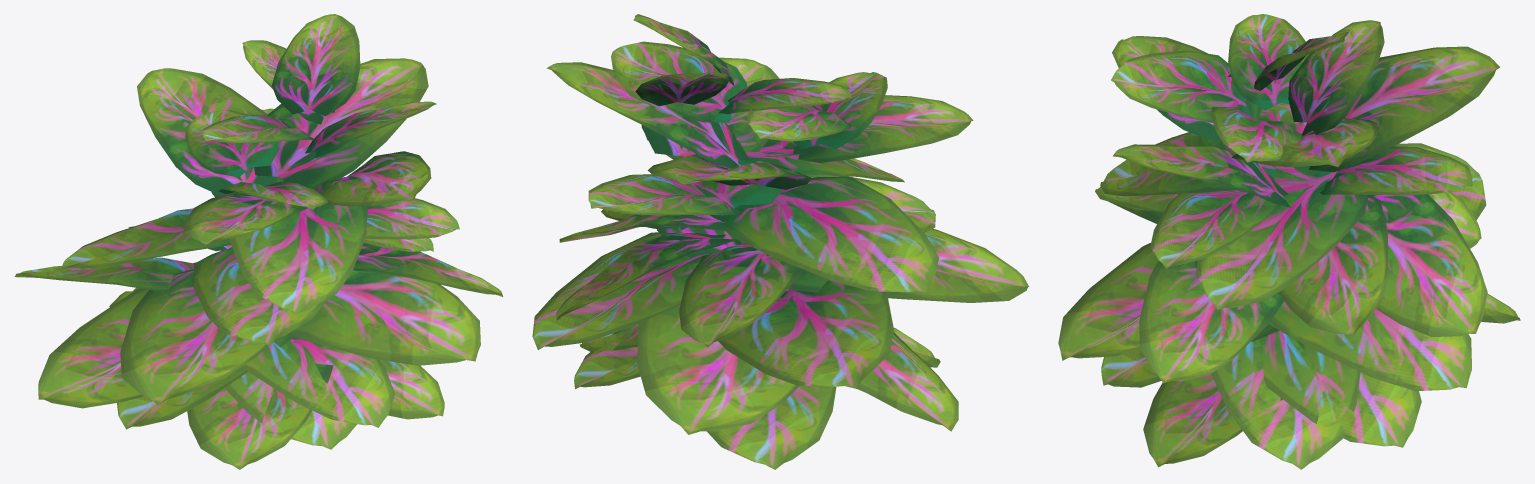
Rendered from mesh_fittonia.fbx.
3 renders of one model, left to right at view 1: azimuth 30°, elevation 25°; view 2: azimuth 150°, elevation 25°; view 3: azimuth 270°, elevation 25°, orthographic. The views are drawn at different scales.
Visible parts, largest first — view 1: fittonia_3; view 2: fittonia_3; view 3: fittonia_3.
Part boxes in pixels (x1,y1,x2,y2): fittonia_3: [15, 14, 503, 469]; fittonia_3: [532, 14, 1028, 469]; fittonia_3: [1058, 14, 1520, 469].
Bounding box in the file's own units: 1.03 × 0.8867 × 0.9041.
